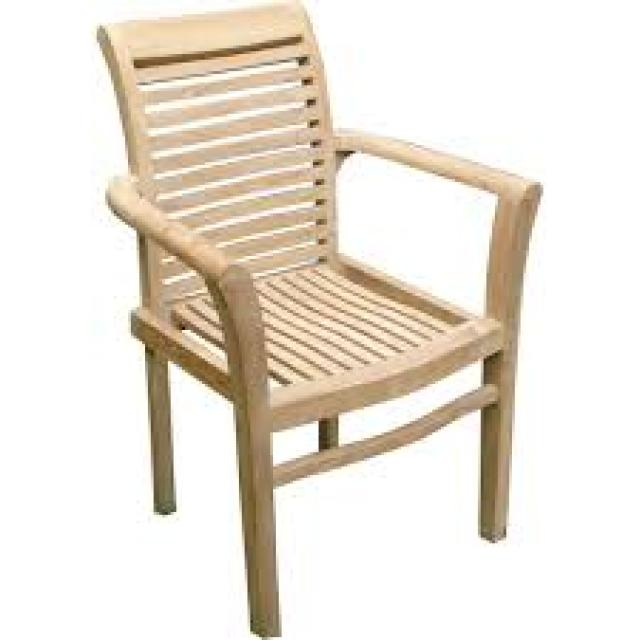chair: (70, 1, 562, 638)
